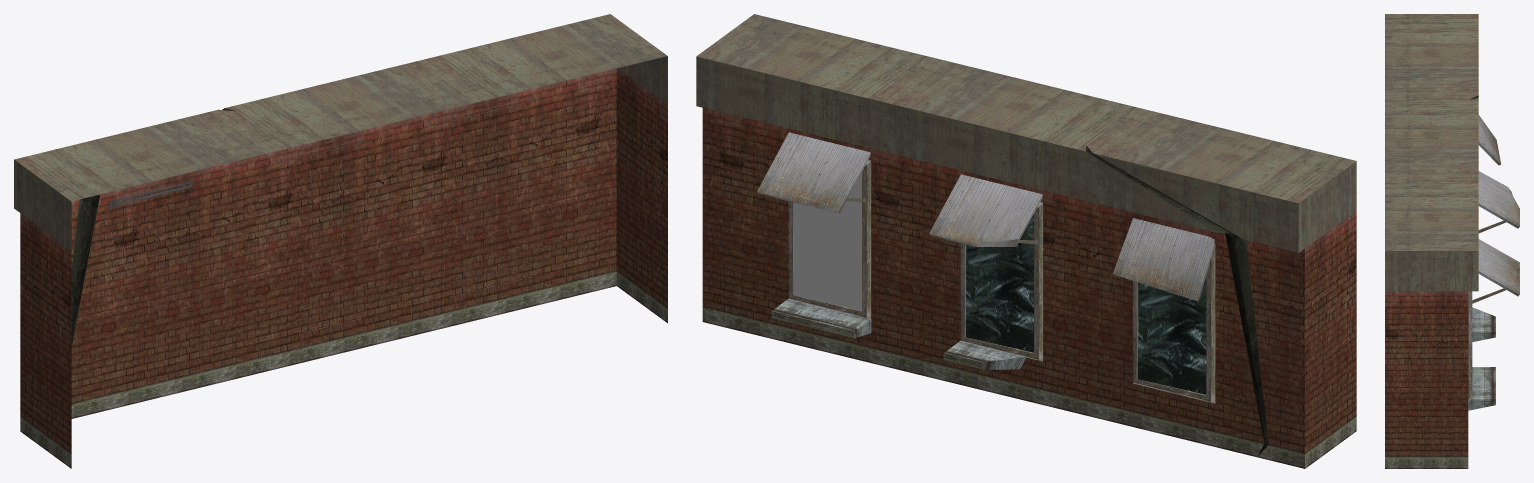
The model's file is Store_front_5_E.fbx.
3 renders of one model, left to right at view 1: azimuth 30°, elevation 25°; view 2: azimuth 150°, elevation 25°; view 3: azimuth 270°, elevation 25°, orthographic. The views are drawn at different scales.
Parts seen in each view (by area): view 1: Store_front_5_E; view 2: Store_front_5_E; view 3: Store_front_5_E.
Boxes of the visible parts, left/top/right/bottom form: Store_front_5_E: left=14, top=14, right=667, bottom=468; Store_front_5_E: left=696, top=14, right=1356, bottom=468; Store_front_5_E: left=1385, top=14, right=1519, bottom=468.
Bounding box in the file's own units: 700 × 300 × 168.
